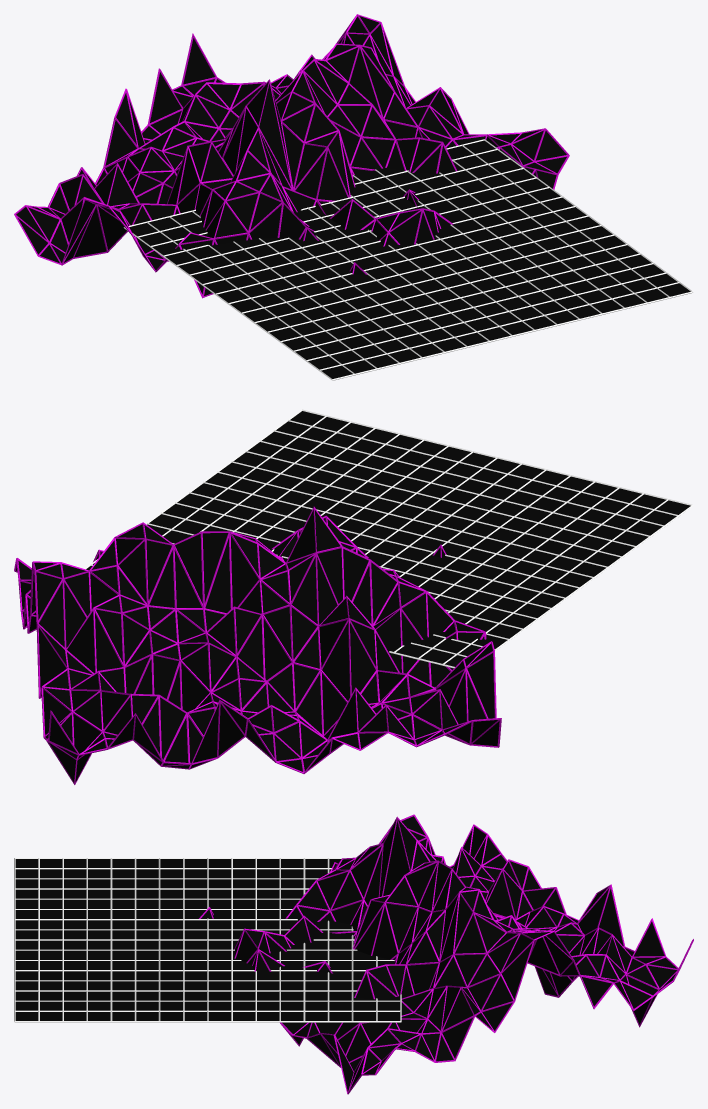
File: Background.fbx
3 renders of one model, top to bottom at view 1: azimuth 30°, elevation 25°; view 2: azimuth 150°, elevation 25°; view 3: azimuth 270°, elevation 25°, orthographic. The views are drawn at different scales.
Visible parts, largest first — view 1: Plane, Plane.001; view 2: Plane.001, Plane; view 3: Plane.001, Plane.
Part boxes in pixels (x1,y1,x2,y2): Plane: [123, 139, 693, 380]; Plane.001: [14, 14, 569, 298]; Plane.001: [14, 506, 501, 784]; Plane: [84, 409, 693, 668]; Plane.001: [199, 814, 693, 1094]; Plane: [14, 858, 401, 1022].
Size of the model in its own units: 683 by 239 by 862.
